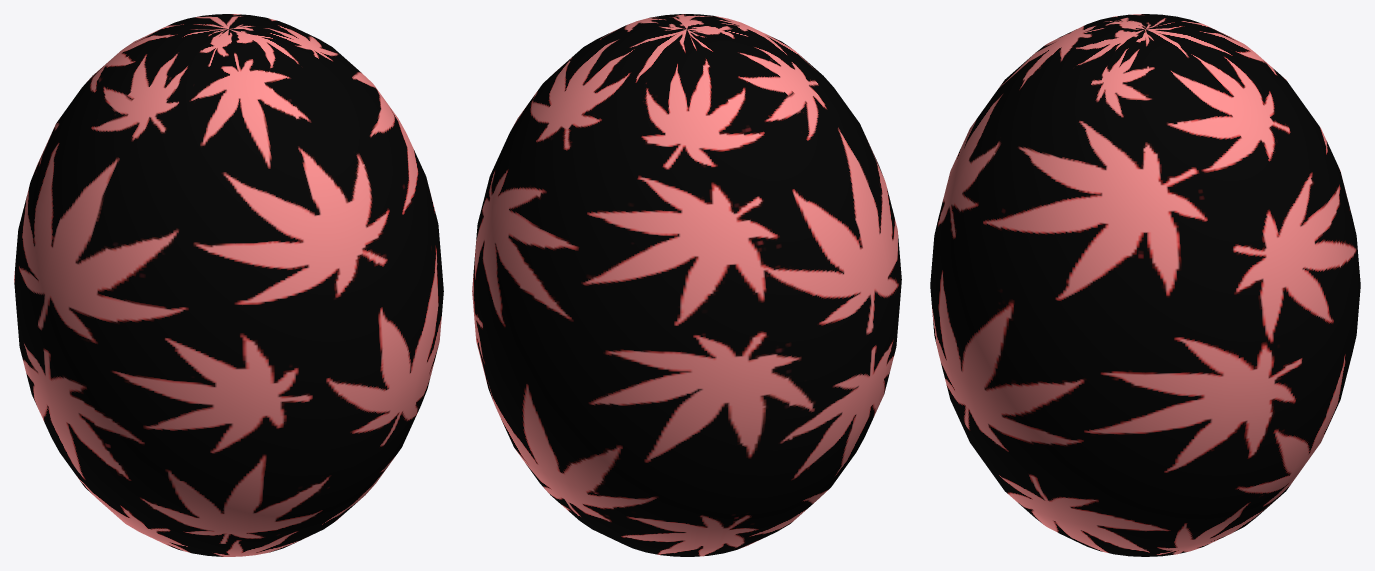
File: egg.glb
The picture shows the model from 3 angles, left to right: view 1: azimuth 30°, elevation 25°; view 2: azimuth 150°, elevation 25°; view 3: azimuth 270°, elevation 25°; orthographic projection.
Visible parts, largest first — view 1: Sphere; view 2: Sphere; view 3: Sphere.
Boxes of the visible parts, left/top/right/bottom form: Sphere: left=14, top=14, right=443, bottom=556; Sphere: left=472, top=14, right=901, bottom=556; Sphere: left=930, top=14, right=1360, bottom=556.
Bounding box in the file's own units: 0.1355 × 0.1779 × 0.1355.
Materials: 1 (1 with a texture image).
